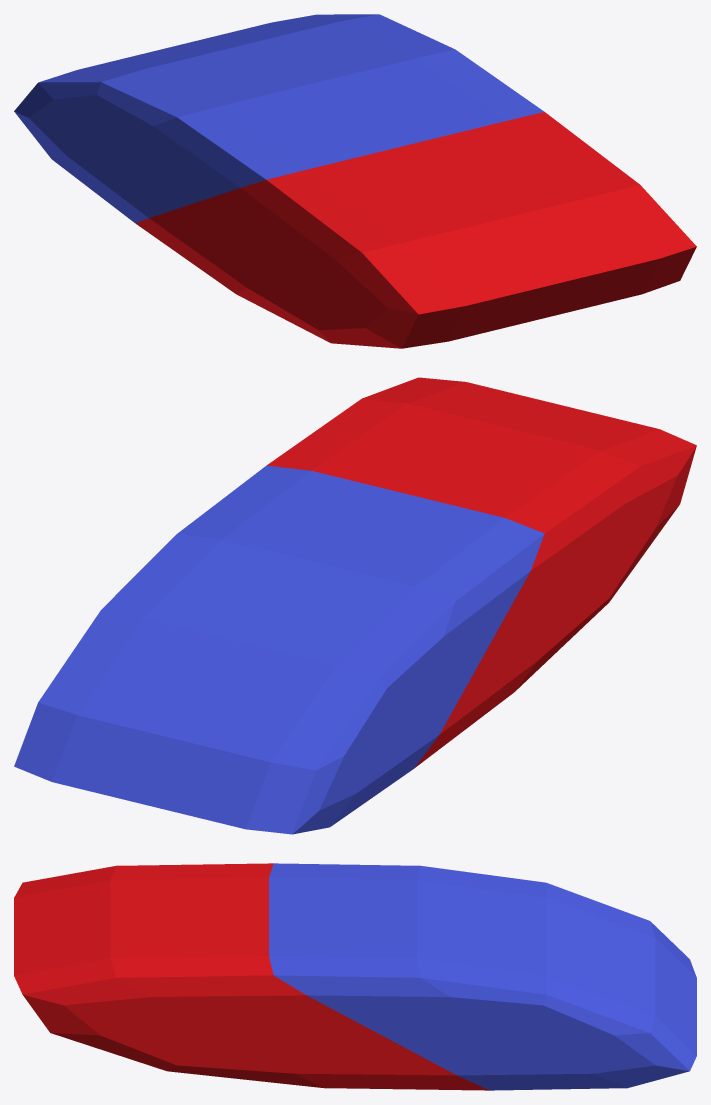
The model's file is Eraser_3.fbx.
3 renders of one model, top to bottom at view 1: azimuth 30°, elevation 25°; view 2: azimuth 150°, elevation 25°; view 3: azimuth 270°, elevation 25°, orthographic. The views are drawn at different scales.
Parts seen in each view (by area): view 1: Куб; view 2: Куб; view 3: Куб.
Boxes of the visible parts, left/top/right/bottom form: Куб: left=14, top=14, right=696, bottom=348; Куб: left=14, top=377, right=696, bottom=834; Куб: left=14, top=863, right=696, bottom=1090.
Size of the model in its own units: 200 by 95.84 by 494.
